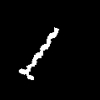half_double_crochet: (19, 28, 58, 79)
